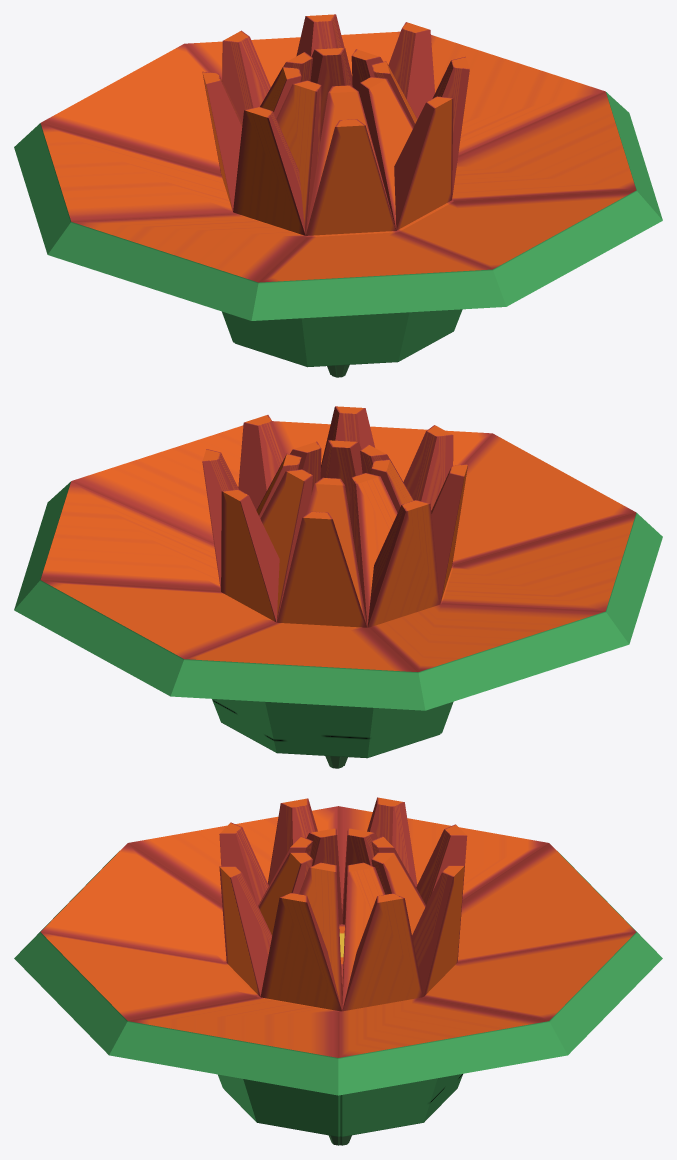
File: Flower-Platform.fbx
3 views of the same model, one above another, from view 1: azimuth 30°, elevation 25°; view 2: azimuth 150°, elevation 25°; view 3: azimuth 270°, elevation 25° (orthographic). The views are drawn at different scales.
Visible parts, largest first — view 1: Phase-03, Phase-02, Phase-01; view 2: Phase-03, Phase-02, Phase-01; view 3: Phase-03, Phase-02, Phase-01.
Boxes of the visible parts, box(x1,y1,x2,y2) form: Phase-03: box(14, 31, 662, 377); Phase-02: box(202, 14, 469, 235); Phase-01: box(222, 48, 417, 375); Phase-03: box(14, 421, 662, 765); Phase-02: box(202, 406, 467, 627); Phase-01: box(212, 440, 451, 768); Phase-03: box(14, 806, 662, 1145); Phase-02: box(219, 797, 467, 1011); Phase-01: box(258, 828, 462, 1145).
Bounding box in the file's own units: 562 × 279 × 562.
